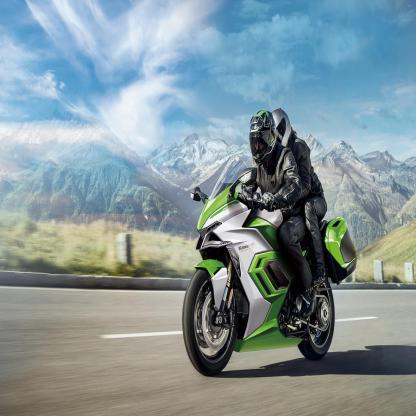Motorcycle: (176, 166, 352, 374)
